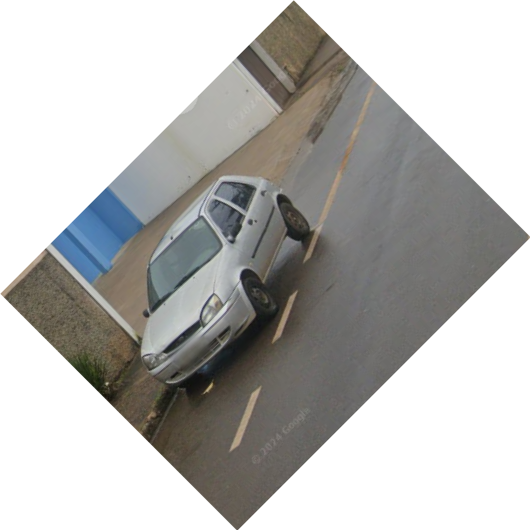car: (136, 173, 312, 410)
